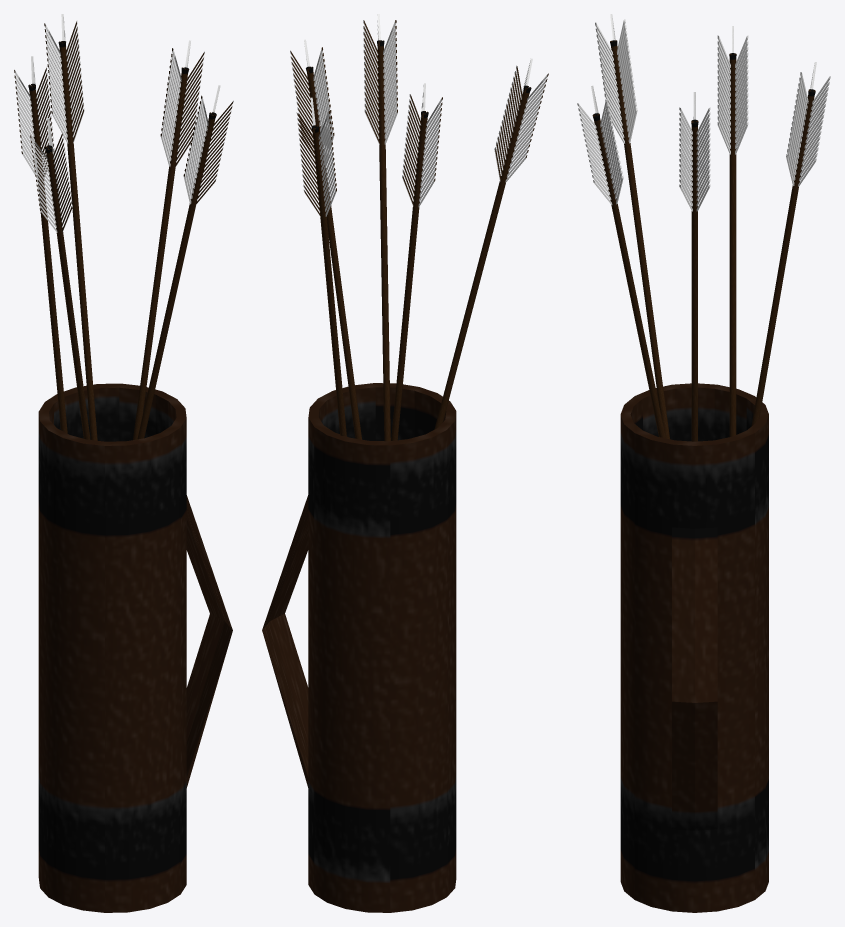
Rendered from quiver.fbx.
3 views of the same model, side by side, from view 1: azimuth 30°, elevation 25°; view 2: azimuth 150°, elevation 25°; view 3: azimuth 270°, elevation 25° (orthographic).
Parts seen in each view (by area): view 1: pCylinder9; view 2: pCylinder9; view 3: pCylinder9.
Part boxes in pixels (<box>): pCylinder9: <box>14,14,233,912</box>; pCylinder9: <box>262,14,548,912</box>; pCylinder9: <box>577,14,830,912</box>.
Bounding box in the file's own units: 0.4151 × 1.38 × 0.3865.
1 material, 1 textured.
